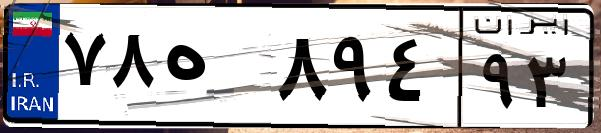3: (525, 38, 570, 115)
4: (385, 28, 445, 110)
7: (57, 26, 110, 100)
8: (270, 28, 330, 110), (110, 28, 158, 98)
9: (330, 28, 385, 110), (475, 38, 525, 113)
ه: (158, 20, 270, 120)
